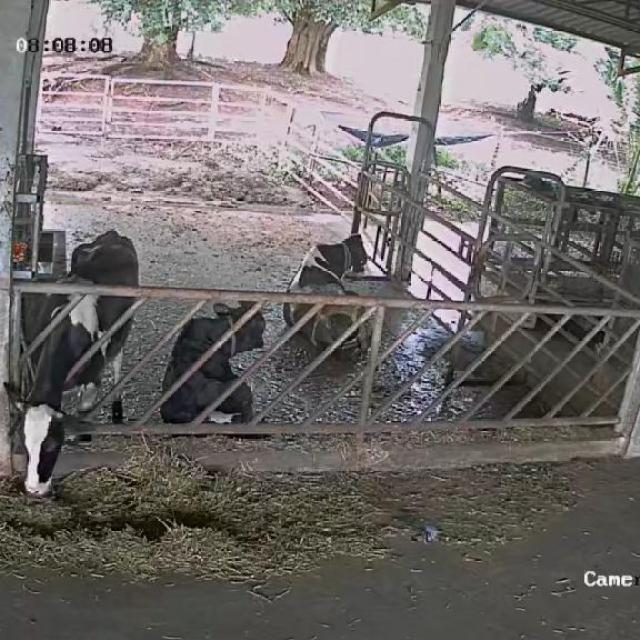feeding: (8, 230, 148, 508)
lying down: (158, 290, 272, 430), (280, 230, 382, 356)
